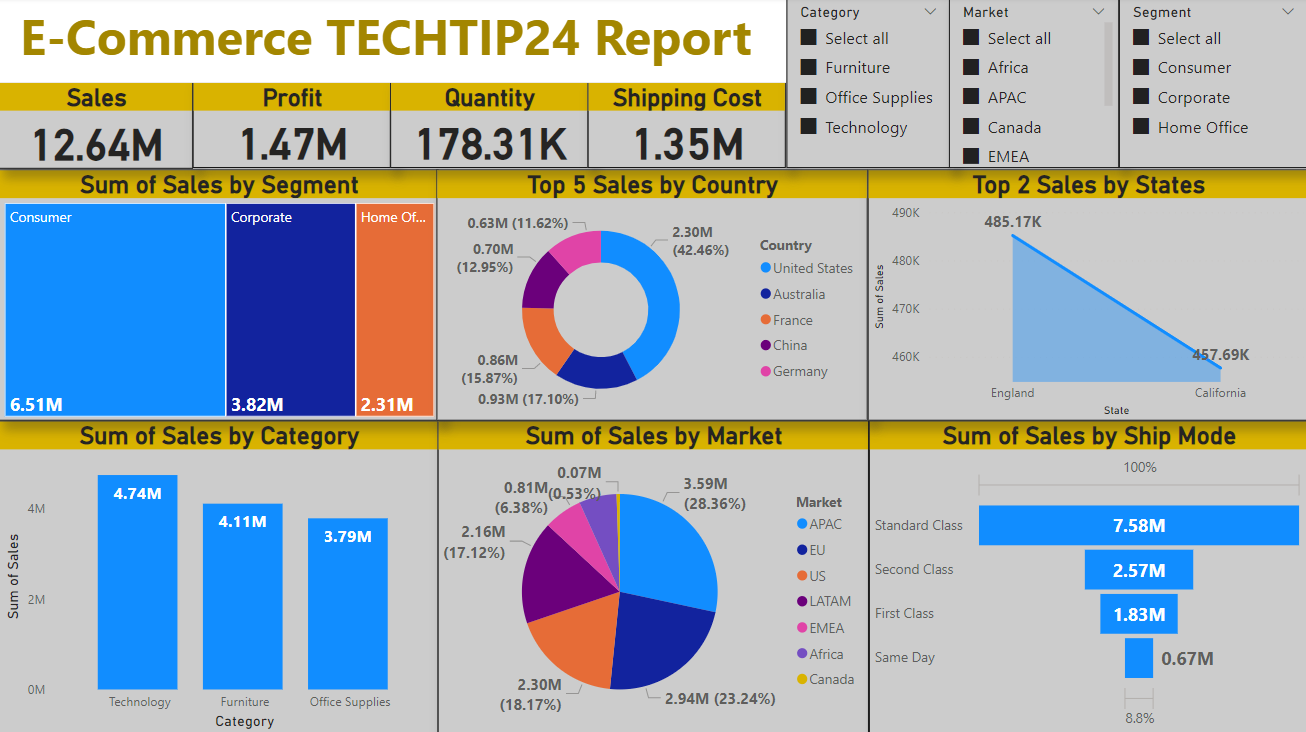

This screenshot's page, from the dashboard's own definition file:
{"tool":"powerbi","page":{"name":"Sales Report - 23 April","canvas":[1280,720],"ordinal":0},"visuals":[{"type":"columnChart","fields":{"Category":["Orders.Category"],"Y":["Sum(Orders.Sales)"]},"box":[0,414.4,429.5,306],"z":0},{"type":"pieChart","fields":{"Category":["Orders.Market"],"Y":["Sum(Orders.Sales)"]},"box":[429.5,414.4,421.3,306],"z":1000},{"type":"funnel","fields":{"Category":["Orders.Ship Mode"],"Y":["Sum(Orders.Sales)"]},"box":[850.8,414.4,429.5,306],"z":2000},{"type":"treemap","fields":{"Group":["Orders.Segment"],"Values":["Sum(Orders.Sales)"]},"box":[0,168.8,429.5,245.6],"z":3000},{"type":"donutChart","title":"Top 5 Sales by Country","fields":{"Y":["Sum(Orders.Sales)"],"Category":["Orders.Country"]},"box":[428.1,168.8,421.3,245.6],"z":4000},{"type":"areaChart","title":"Top 2 Sales by States","fields":{"Y":["Sum(Orders.Sales)"],"Category":["Orders.State"]},"box":[849.4,168.8,430.9,245.6],"z":5000},{"type":"card","title":"Sales","fields":{"Values":["Sum(Orders.Sales)"]},"box":[0,83.7,189.4,85.1],"z":6000},{"type":"card","title":"Profit","fields":{"Values":["Sum(Orders.Profit)"]},"box":[189.4,83.7,193.5,83.7],"z":7000},{"type":"card","title":"Quantity","fields":{"Values":["Sum(Orders.Quantity)"]},"box":[382.8,83.7,193.5,83.7],"z":8000},{"type":"card","title":"Shipping Cost","fields":{"Values":["Sum(Orders.Shipping Cost)"]},"box":[576.3,83.7,193.5,83.7],"z":9000},{"type":"slicer","title":"Category","fields":{"Values":["Orders.Category"]},"box":[769.8,0,160.5,167.4],"z":10000},{"type":"slicer","fields":{"Values":["Orders.Market"]},"box":[929,0,166,167.4],"z":11000},{"type":"slicer","fields":{"Values":["Orders.Segment"]},"box":[1095,0,185.2,167.4],"z":12000},{"type":"textbox","box":[0,0,769.8,83.7],"z":13000}]}

Visuals, with their boxes in screenshot pixels (x1, y1, x2, y2), scaled from the page's 1280x720 canvas onto the 1306x732 screenshot:
columnChart - Orders.Category x Sum(Orders.Sales): box(0, 421, 438, 731)
pieChart - Orders.Market x Sum(Orders.Sales): box(438, 421, 868, 731)
funnel - Orders.Ship Mode x Sum(Orders.Sales): box(868, 421, 1305, 731)
treemap - Orders.Segment x Sum(Orders.Sales): box(0, 172, 438, 421)
"Top 5 Sales by Country" donutChart: box(437, 172, 867, 421)
"Top 2 Sales by States" areaChart: box(867, 172, 1305, 421)
"Sales" card: box(0, 85, 193, 172)
"Profit" card: box(193, 85, 391, 170)
"Quantity" card: box(391, 85, 588, 170)
"Shipping Cost" card: box(588, 85, 785, 170)
"Category" slicer: box(785, 0, 949, 170)
slicer - Orders.Market: box(948, 0, 1117, 170)
slicer - Orders.Segment: box(1117, 0, 1305, 170)
textbox: box(0, 0, 785, 85)
